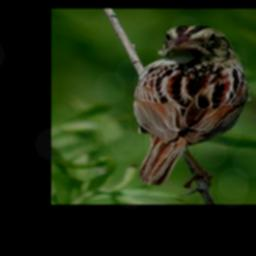Sparrow: (135, 24, 251, 198)
